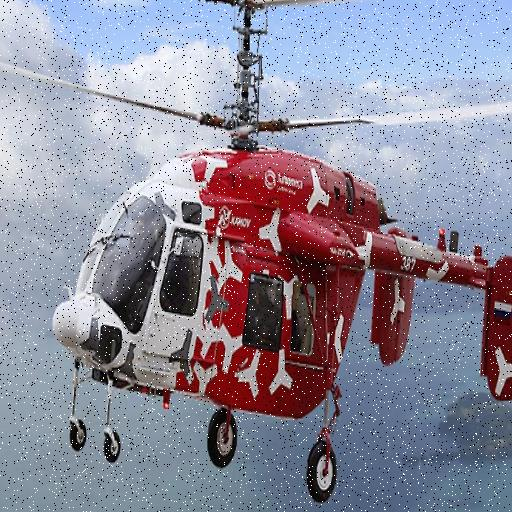helicopter: (49, 1, 512, 507)
